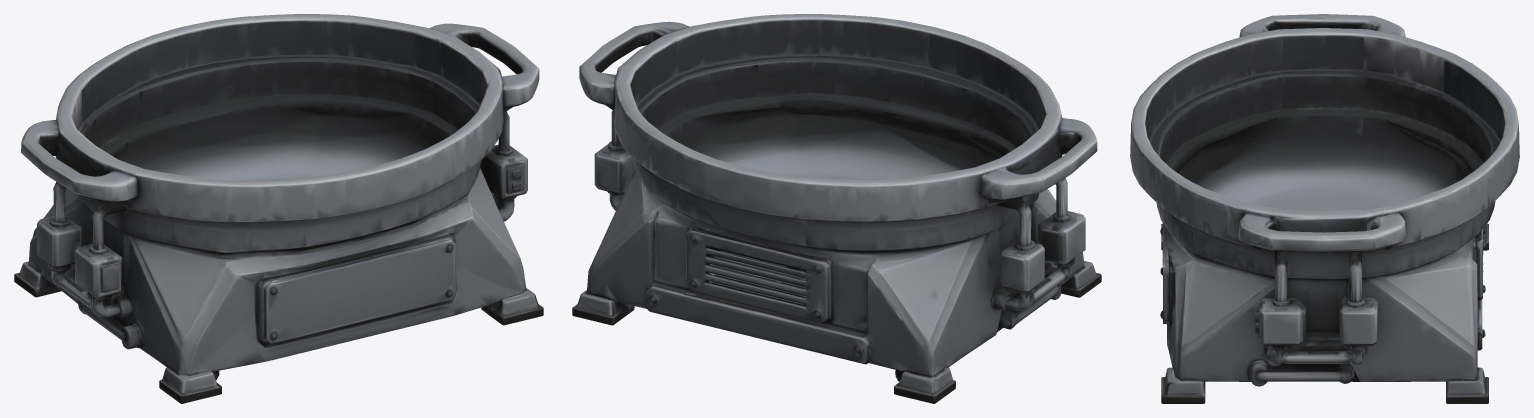
File: fishprocessingpan.glb
The picture shows the model from 3 angles, left to right: view 1: azimuth 30°, elevation 25°; view 2: azimuth 150°, elevation 25°; view 3: azimuth 270°, elevation 25°; orthographic projection. The views are drawn at different scales.
Visible parts, largest first — view 1: Mesh_0; view 2: Mesh_0; view 3: Mesh_0.
Boxes of the visible parts, x1,y1,x2,y2 form: Mesh_0: [14, 14, 543, 403]; Mesh_0: [572, 14, 1101, 403]; Mesh_0: [1130, 14, 1519, 403].
Bounding box in the file's own units: 1.12 × 0.4533 × 0.8164.
1 material, 1 textured.
